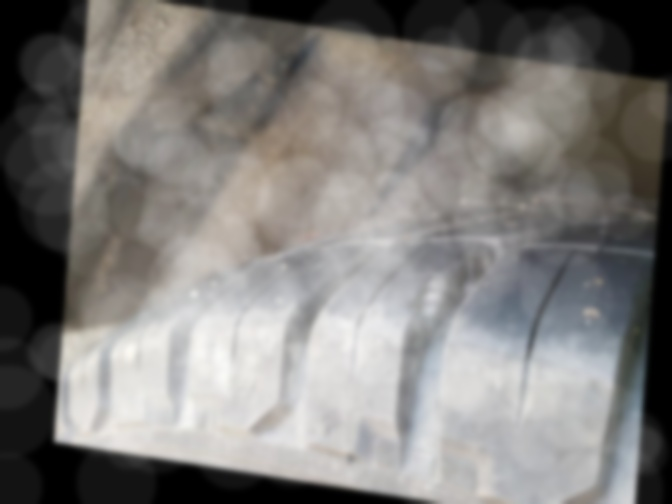temoin:90: (400, 259, 466, 343)
